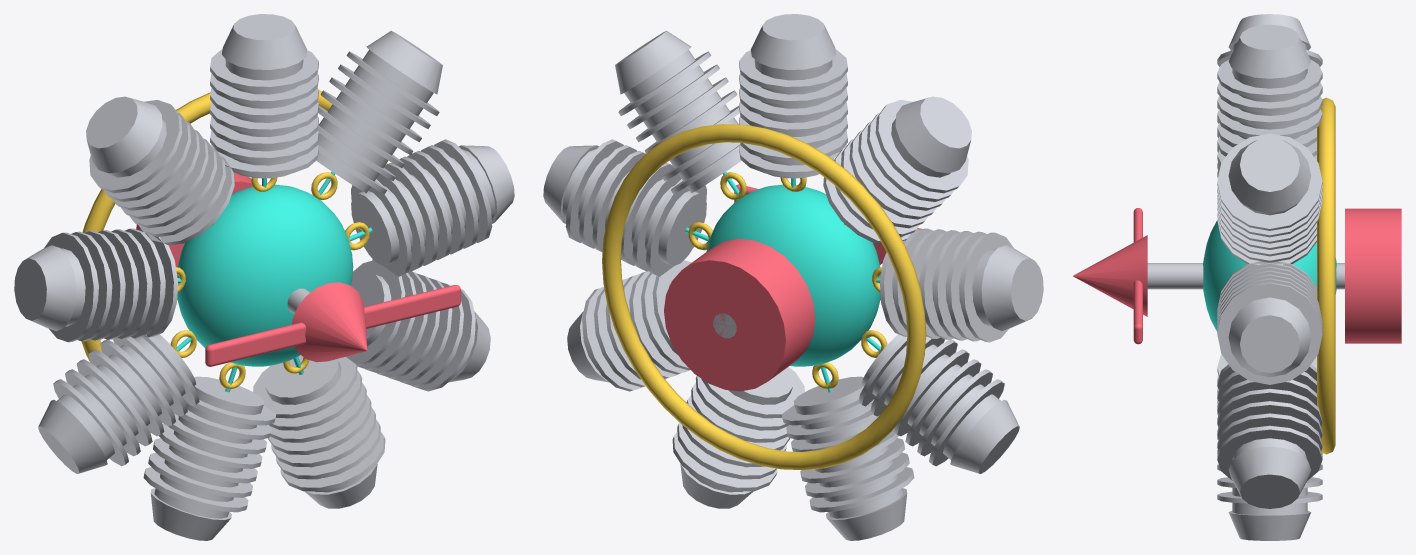
The model's file is radial-engine.glb.
3 renders of one model, left to right at view 1: azimuth 30°, elevation 25°; view 2: azimuth 150°, elevation 25°; view 3: azimuth 270°, elevation 25°, orthographic. The views are drawn at different scales.
Visible parts, largest first — view 1: cylinders_mesh (×9), crankcase_mesh, prop-hub_mesh (×2), exhaust_mesh; view 2: cylinders_mesh (×9), exhaust_mesh, supercharger_mesh, crankcase_mesh; view 3: cylinders_mesh (×6), supercharger_mesh, exhaust_mesh, prop-hub_mesh (×2), crankcase_mesh, crankshaft_mesh.
Part boxes in pixels (x1,y1,x2,y2): cylinders_mesh (×9): (14,14,514,540); crankcase_mesh: (177,184,353,366); prop-hub_mesh (×2): (205,282,460,366); exhaust_mesh: (81,90,387,362); cylinders_mesh (×9): (543,14,1043,540); exhaust_mesh: (602,124,926,470); supercharger_mesh: (664,238,815,391); crankcase_mesh: (706,184,880,366); cylinders_mesh (×6): (1217,14,1322,540); supercharger_mesh: (1345,208,1401,343); exhaust_mesh: (1317,97,1335,454); prop-hub_mesh (×2): (1073,208,1147,344); crankcase_mesh: (1203,220,1336,331); crankshaft_mesh: (1147,263,1344,289).
Size of the model in its own units: 2.81 by 2.77 by 1.75.
